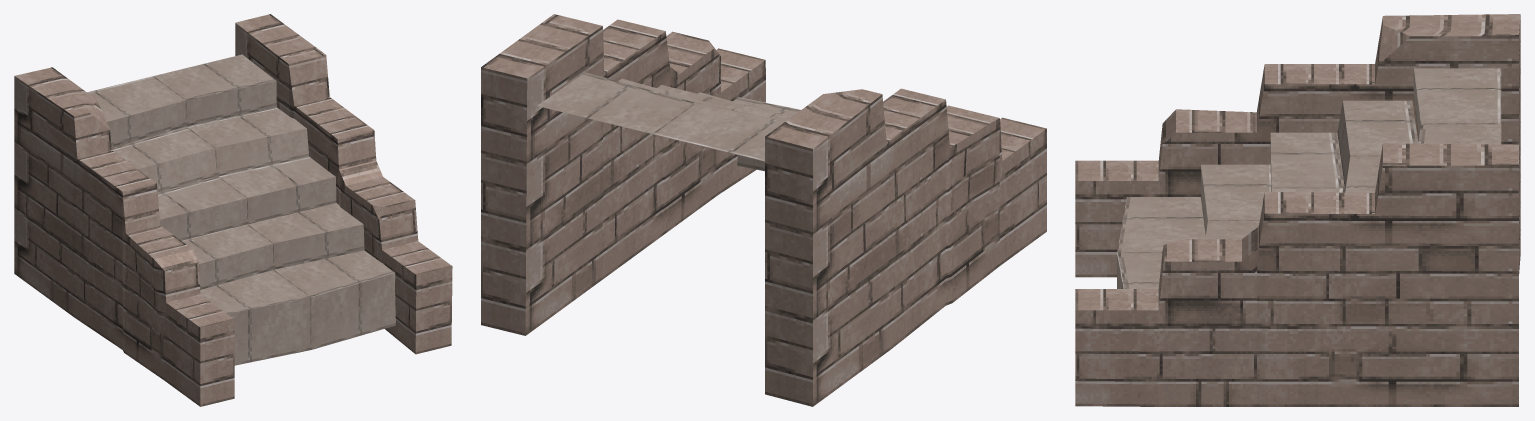
Rendered from stairs_stone_stone.glb.
The picture shows the model from 3 angles, left to right: view 1: azimuth 30°, elevation 25°; view 2: azimuth 150°, elevation 25°; view 3: azimuth 270°, elevation 25°; orthographic projection. The views are drawn at different scales.
Visible parts, largest first — view 1: stairs_stone_stone; view 2: stairs_stone_stone; view 3: stairs_stone_stone.
Boxes of the visible parts, x1,y1,x2,y2 form: stairs_stone_stone: [14, 14, 452, 406]; stairs_stone_stone: [481, 14, 1046, 406]; stairs_stone_stone: [1075, 14, 1520, 406].
Size of the model in its own units: 2.04 by 1.5 by 2.51.
1 material, 1 textured.
